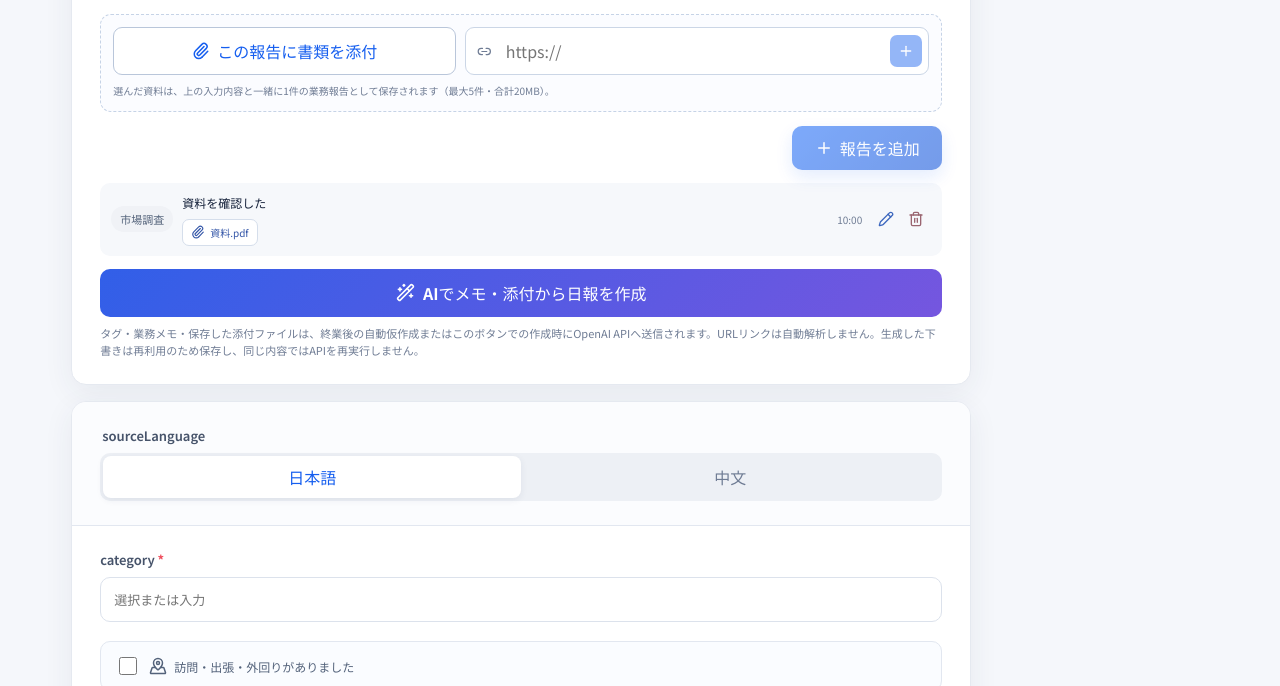
ReportPage work log attachments › discloses attachment analysis and reports a cached draft without another API generation
(page scrolled)
Click the button "AIでメモ・添付から日報を作成" at [521, 293], box x1=100 y1=269 x2=942 y2=317
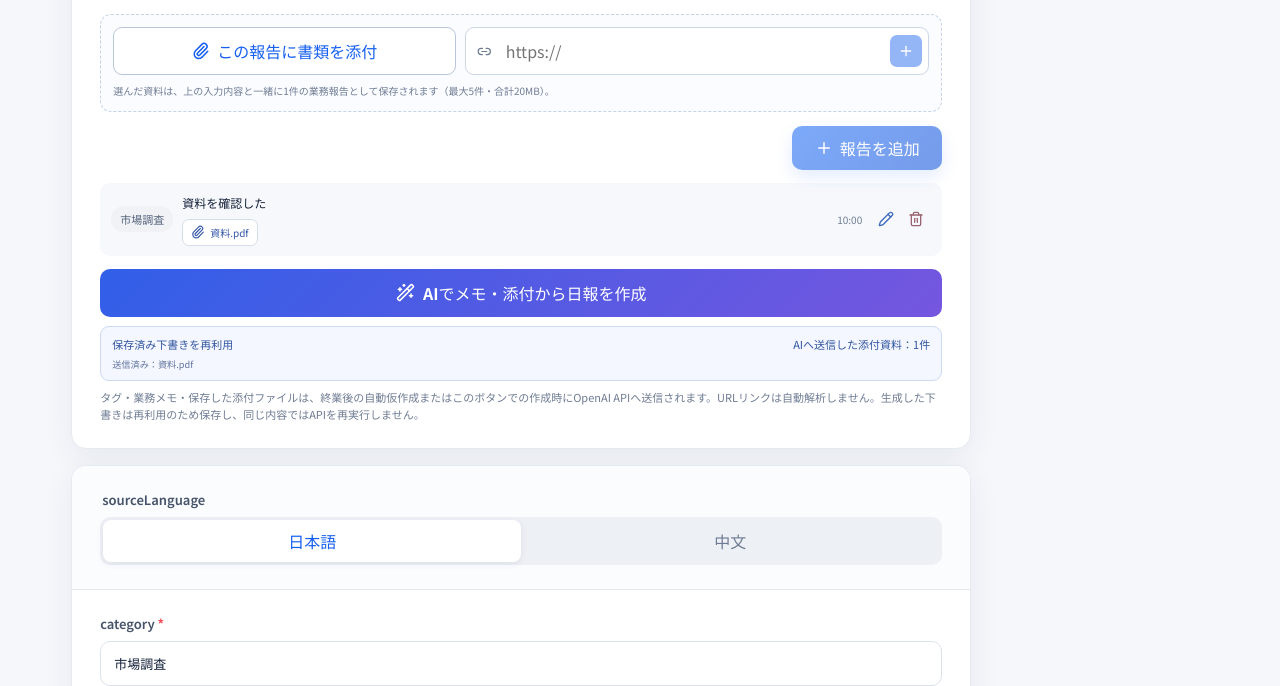
Result: the text "保存済み下書きを再利用" is shown at x1=112 y1=336 x2=233 y2=352
Result: the text "送信済み：資料.pdf" is shown at x1=112 y1=357 x2=193 y2=371
